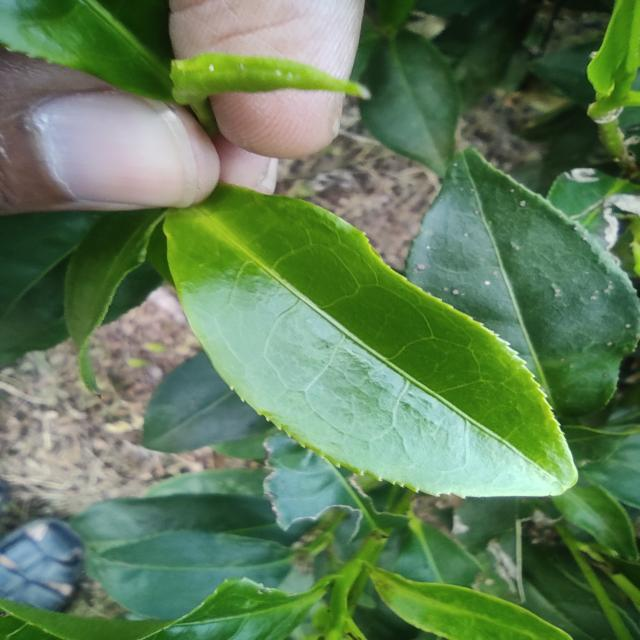Category C 4-7 days: (106, 136, 585, 521)
